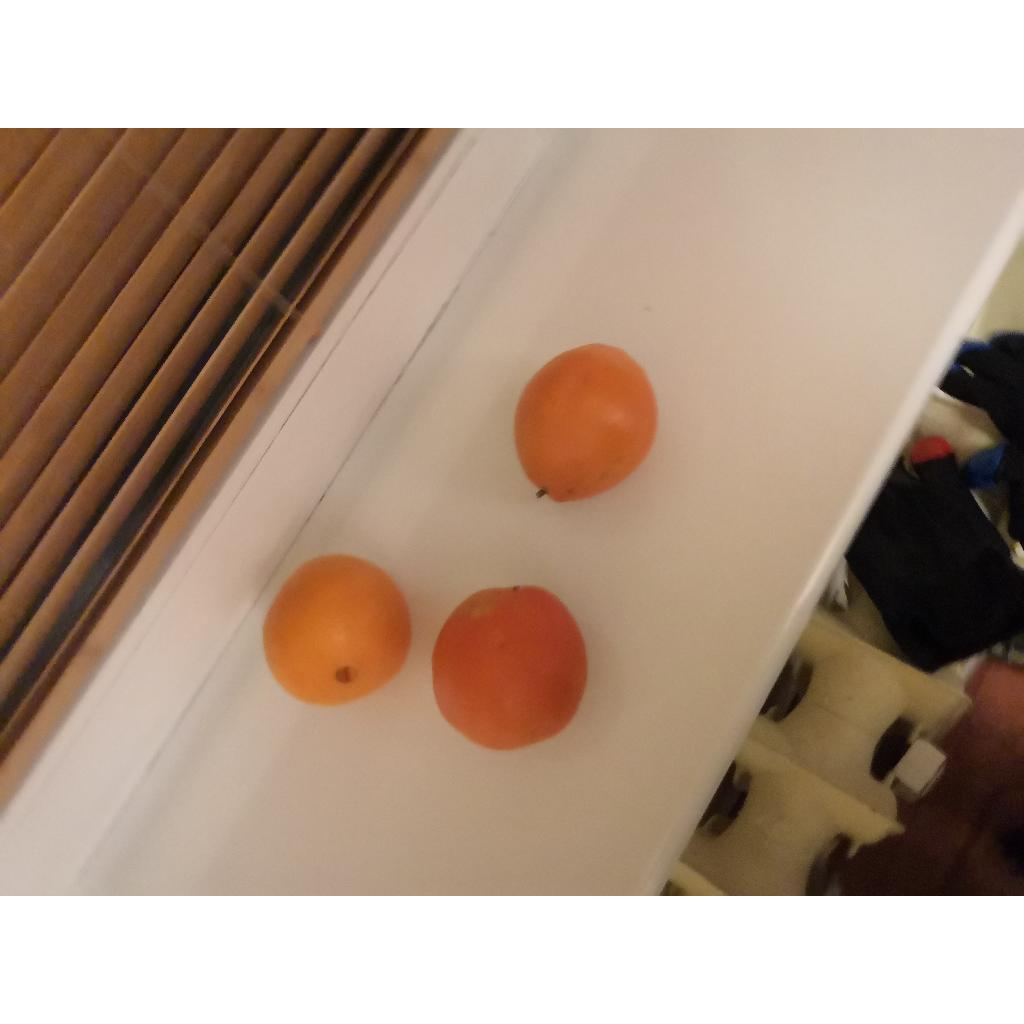orange: (432, 586, 588, 750), (262, 554, 412, 706), (514, 344, 658, 502)
